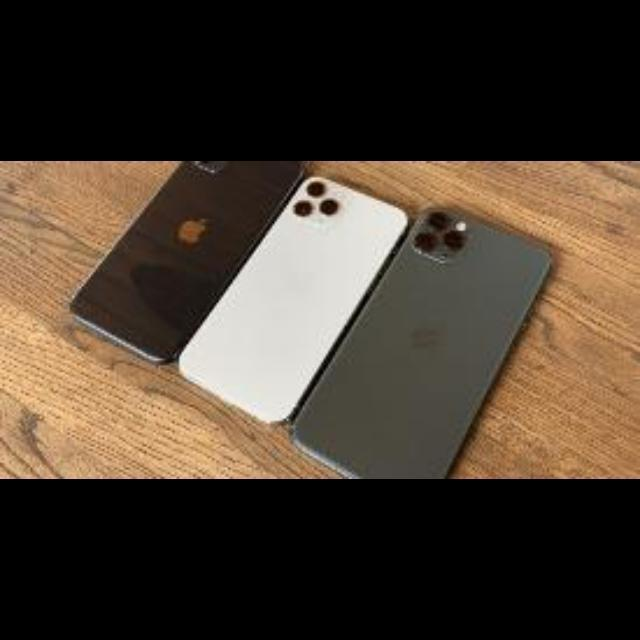phone: (280, 187, 600, 478)
